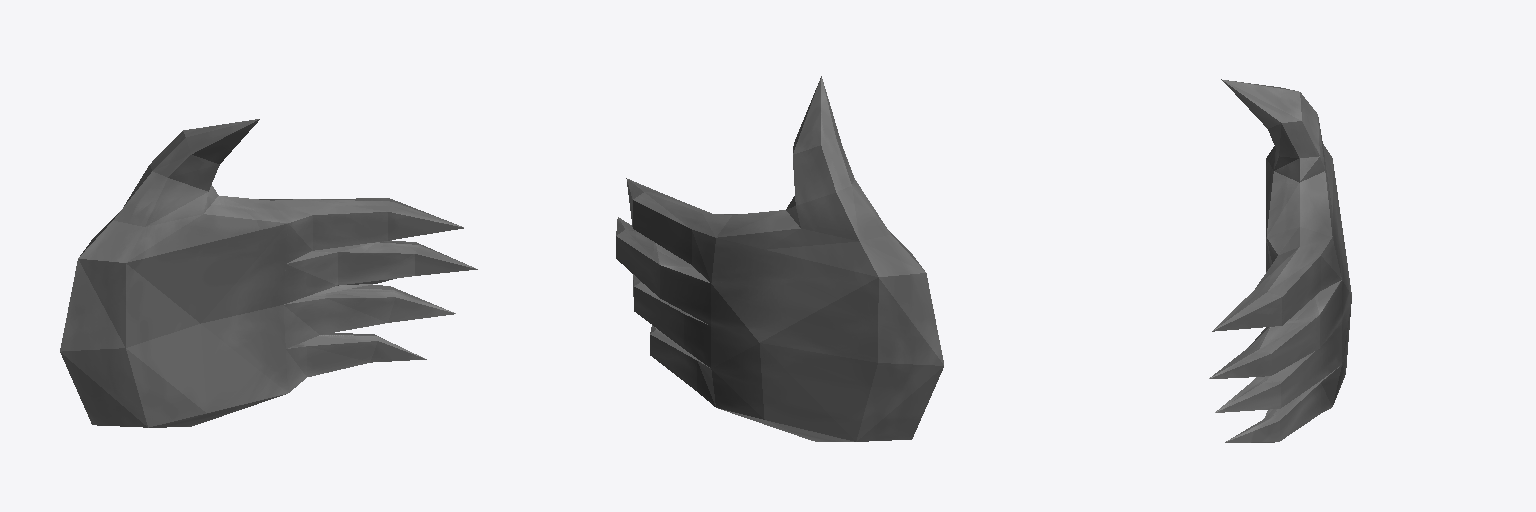
The picture shows the model from 3 angles: view 1: azimuth 30°, elevation 25°; view 2: azimuth 150°, elevation 25°; view 3: azimuth 270°, elevation 25°; orthographic projection.
Visible parts, largest first — view 1: Cube; view 2: Cube; view 3: Cube.
Boxes of the visible parts, box(x1,y1,x2,y2) form: Cube: box(60, 119, 477, 427); Cube: box(616, 76, 943, 441); Cube: box(1209, 79, 1351, 442).
Bounding box in the file's own units: 4.58 × 3.87 × 1.54.
1 materials, 1 textured.